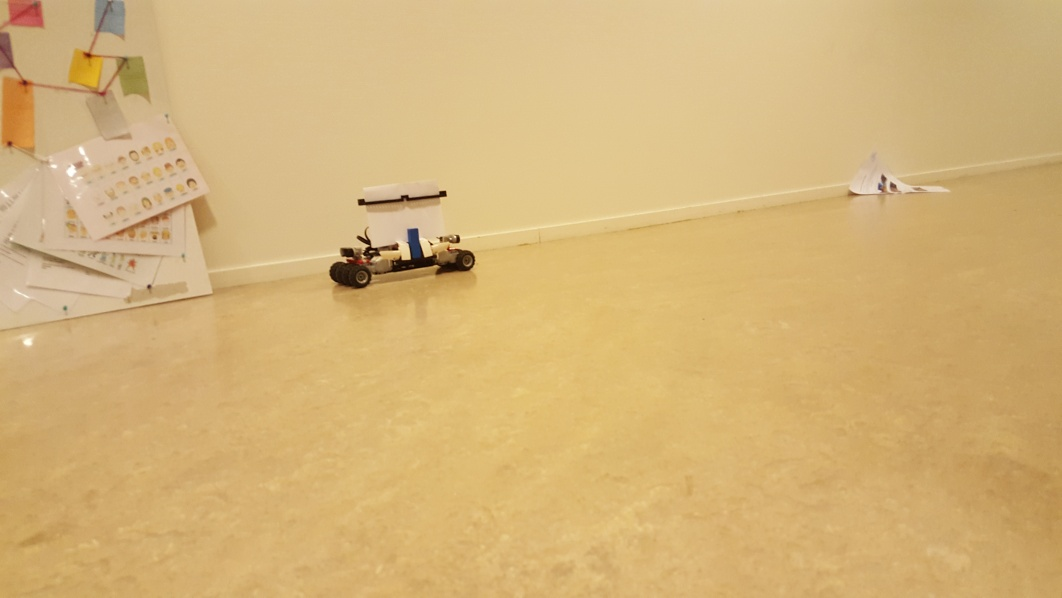beam: (406, 224, 425, 264)
